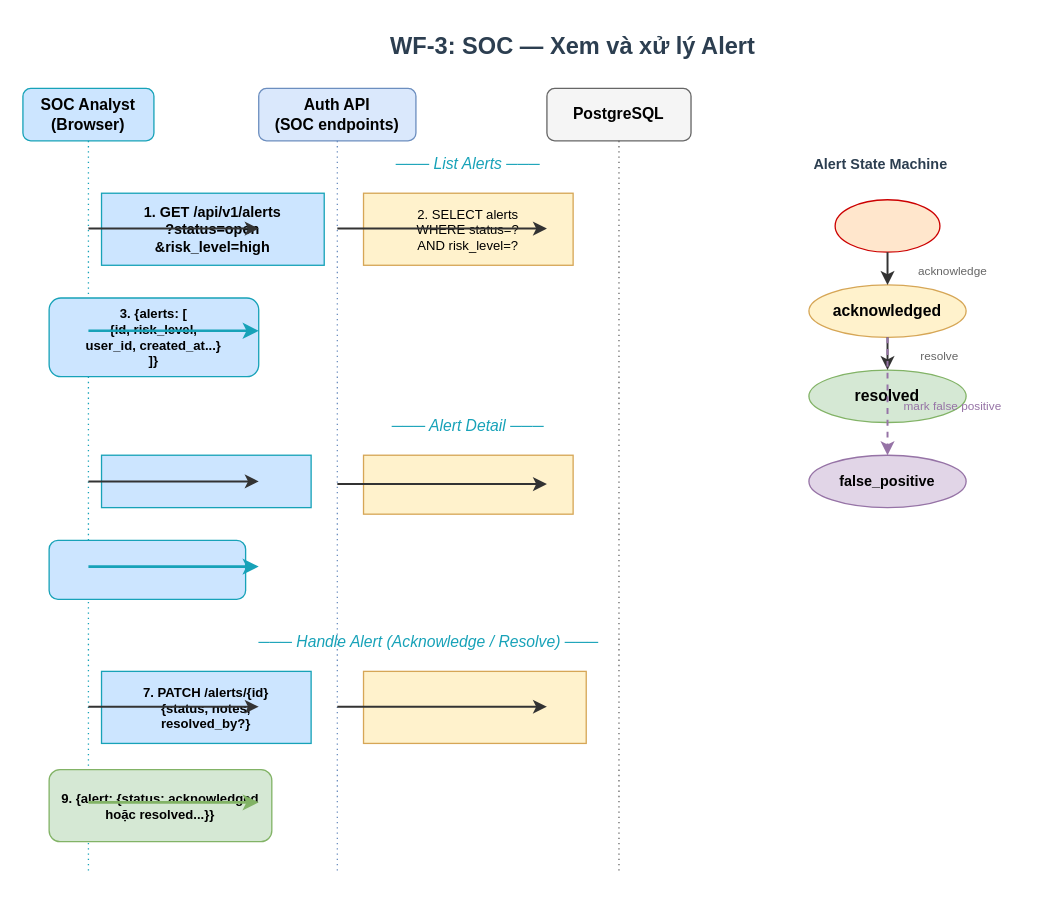
The diagram is 1041 pixels wide and 899 high, and some of its shapes have lost their labels. Here are the shapes that lost their labels. From the top down, the centre of each, then its label:
(887,225): open
(205,481): 4. GET /alerts/{id}
(467,484): 5. SELECT alert + login_attempt info
(147,569): 6. {alert + login_attempt detail}
(474,706): 8. UPDATE alert (status, assigned_to, resolved_by, resolved_at)
